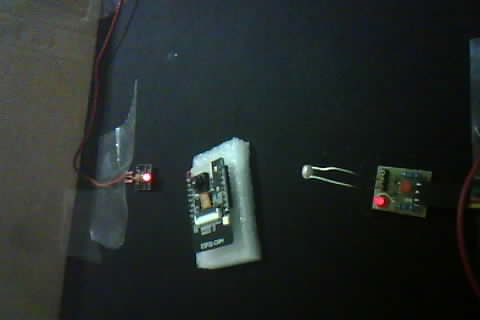esp32: (177, 151, 258, 269)
